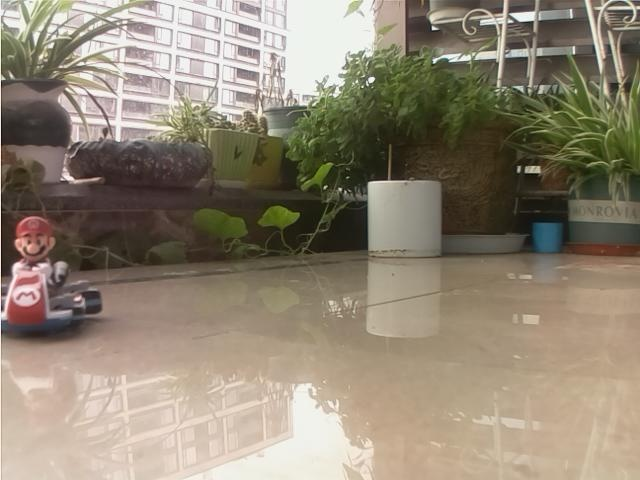mario: (5, 204, 114, 343)
